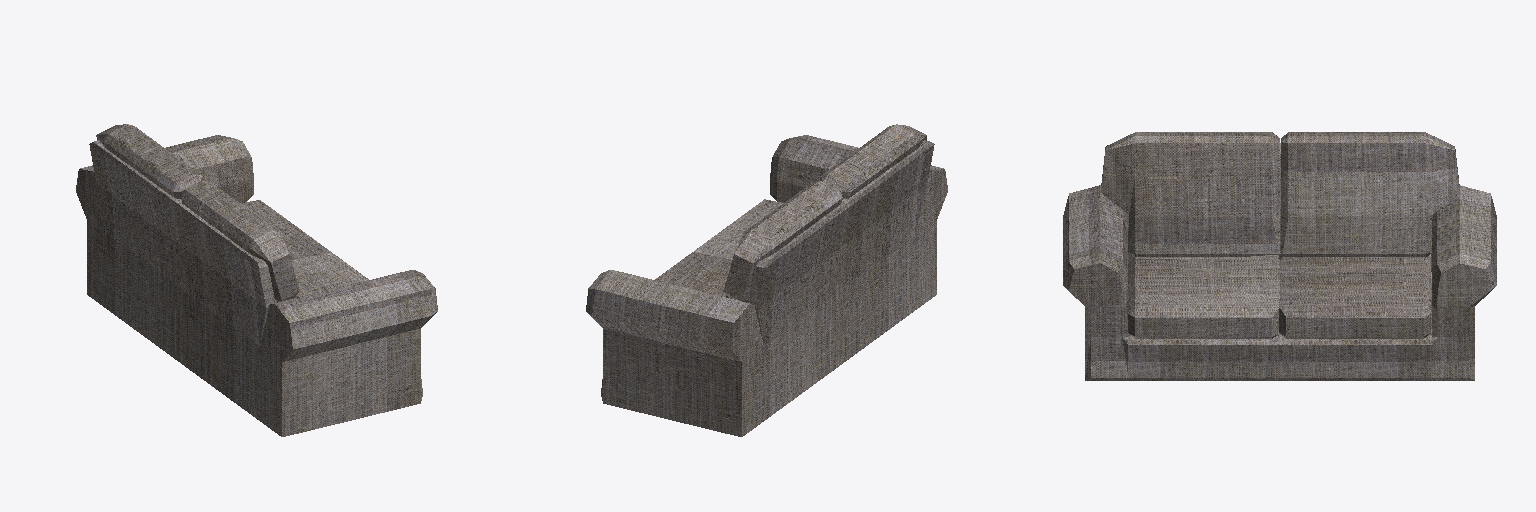
3 renders of one model, left to right at view 1: azimuth 30°, elevation 25°; view 2: azimuth 150°, elevation 25°; view 3: azimuth 270°, elevation 25°, orthographic.
Parts seen in each view (by area): view 1: sofa:Mesh; view 2: sofa:Mesh; view 3: sofa:Mesh.
Boxes of the visible parts, x1=… form: sofa:Mesh: x1=76, y1=124, x2=437, y2=436; sofa:Mesh: x1=586, y1=124, x2=947, y2=436; sofa:Mesh: x1=1063, y1=132, x2=1496, y2=380.
Size of the model in its own units: 7.25 by 7.79 by 16.6.
1 materials, 1 textured.